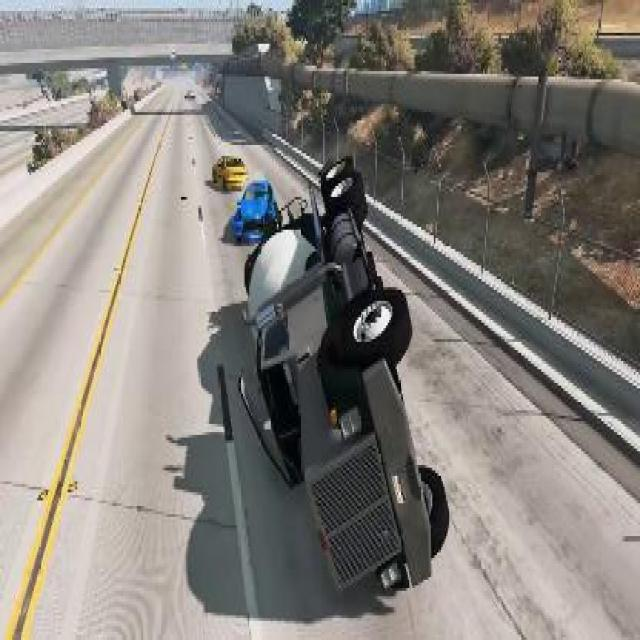accident: (234, 134, 449, 604)
